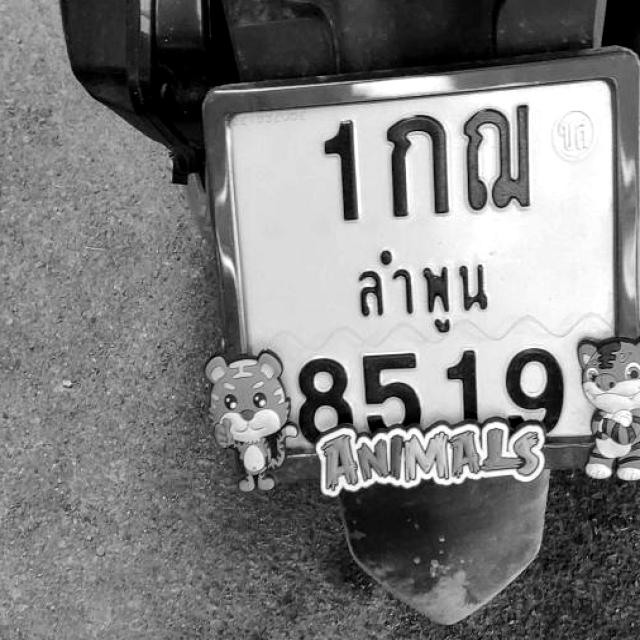letters: (386, 118, 458, 218), (507, 342, 576, 441), (462, 111, 532, 206), (357, 350, 429, 440), (288, 358, 358, 450), (446, 334, 489, 434), (325, 136, 368, 221)
license-plate: (213, 65, 639, 476)
province: (338, 240, 508, 331)
